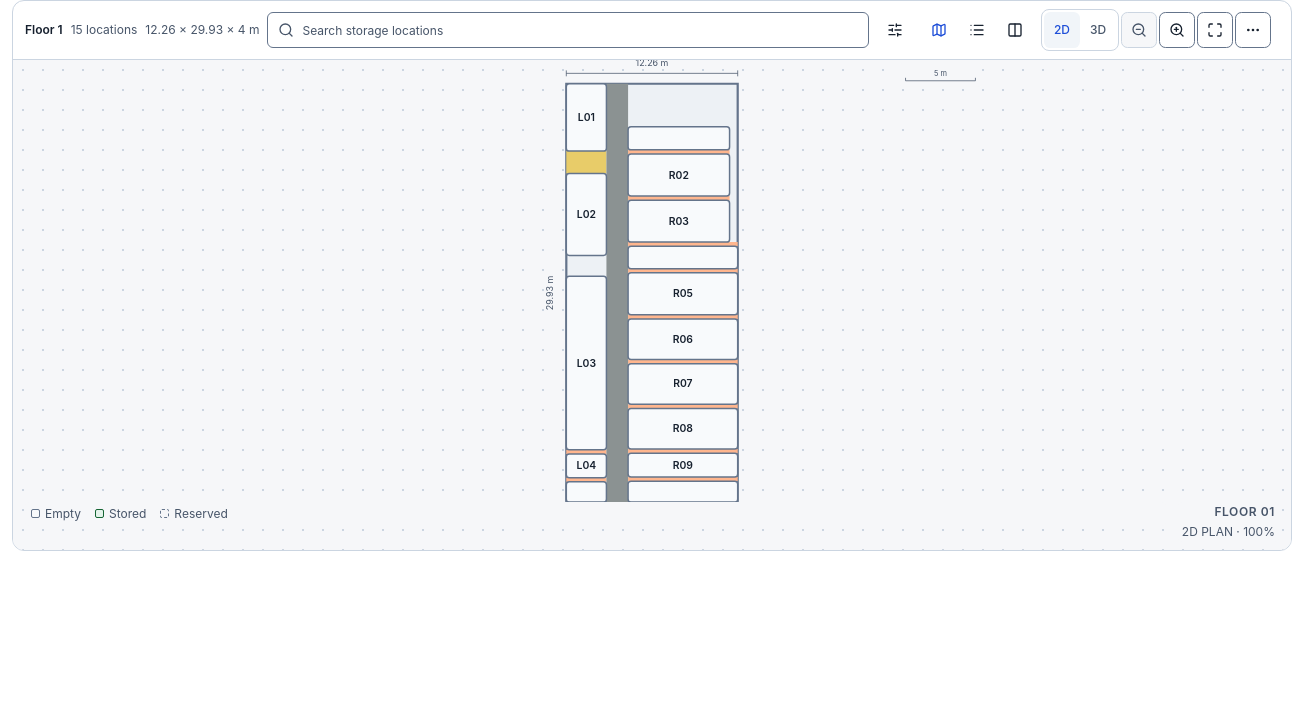
it: floor location labels › fits the approved portrait layout in the shared viewport with names only and one toolbar
Expected: the number of buttons named "2D plan" is 1, [1044,12,1080,48]
Expected: the number of buttons named "3D view" is 1, [1080,12,1116,48]
Click the button named "Zoom in". click: (1177, 30)
box: [1159,12,1195,48]
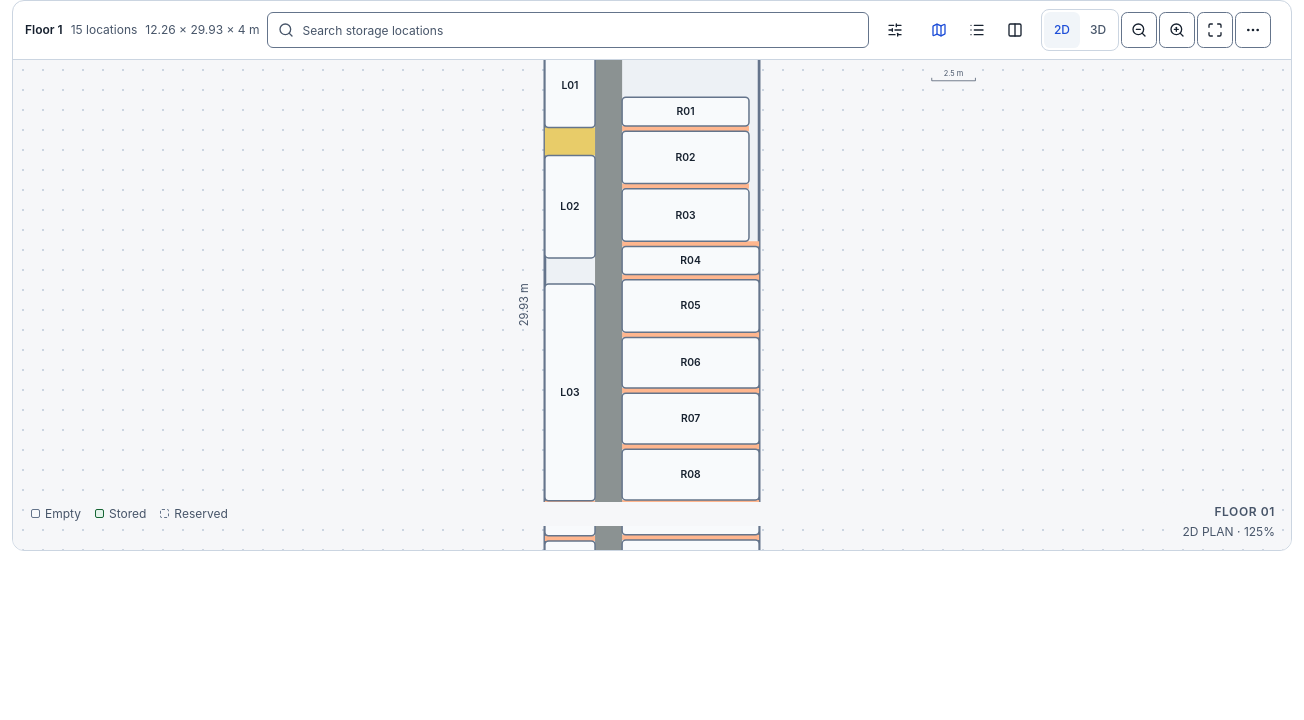
Click the button named "Fit floor to view". click: (1215, 30)
box: [1197,12,1233,48]
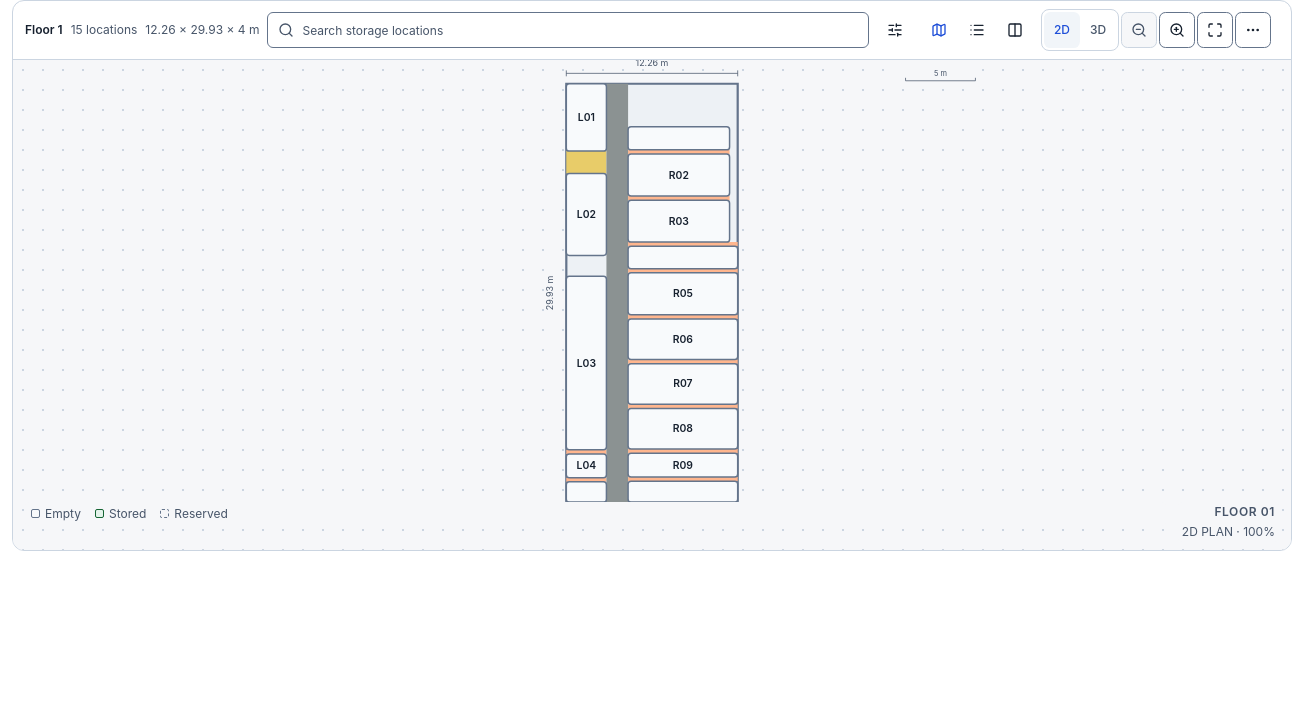
Expected: the button named "Zoom out" is disabled, [1121,12,1157,48]
